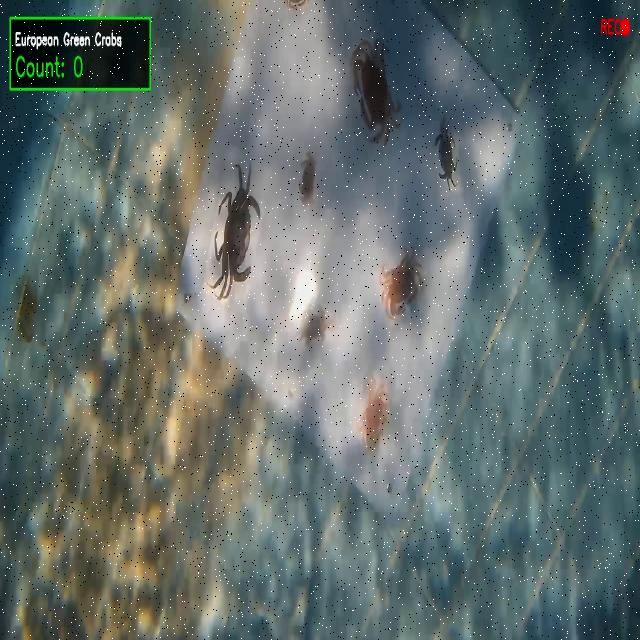European_Green_Crab: (200, 149, 273, 309), (293, 294, 336, 358), (432, 117, 464, 195)
